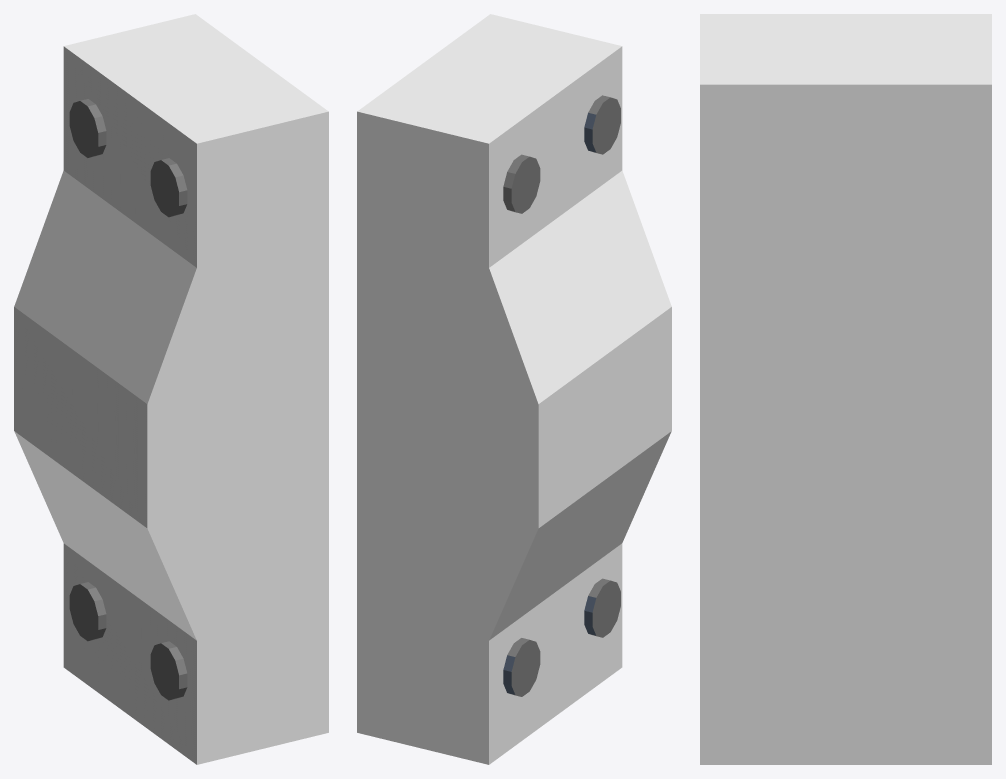
Rendered from switch-body.obj.
The picture shows the model from 3 angles, left to right: view 1: azimuth 30°, elevation 25°; view 2: azimuth 150°, elevation 25°; view 3: azimuth 270°, elevation 25°; orthographic projection. The views are drawn at different scales.
Parts seen in each view (by area): view 1: cylinder; view 2: cylinder; view 3: cylinder.
Boxes of the visible parts, box(x1,y1,x2,y2) form: cylinder: box(14, 14, 328, 764); cylinder: box(357, 14, 671, 764); cylinder: box(700, 14, 991, 764).
Bounding box in the file's own units: 0.3438 × 1.12 × 0.4375.
1 material, 1 textured.
